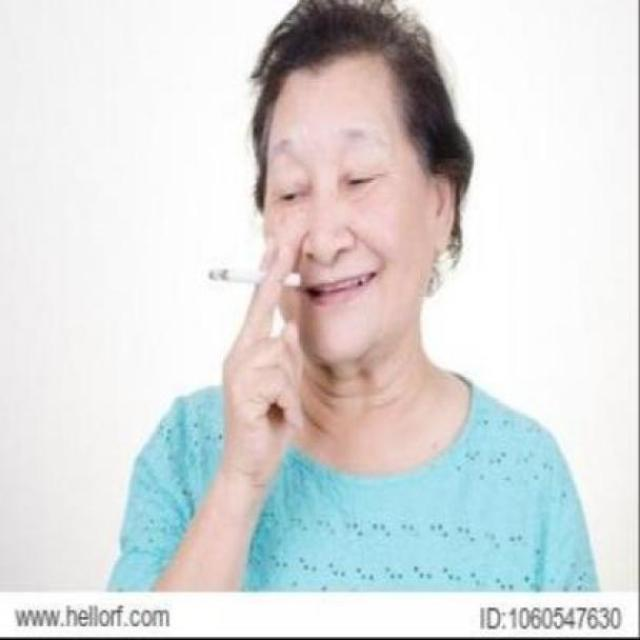rokok: (202, 260, 306, 290)
